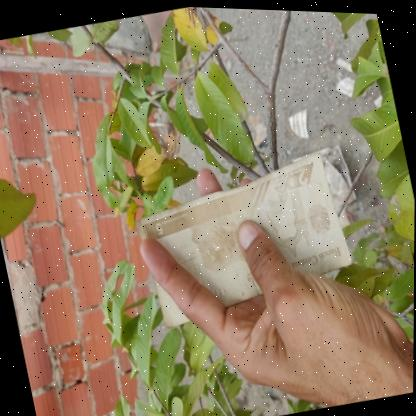five-back-vef: (126, 142, 359, 333)
